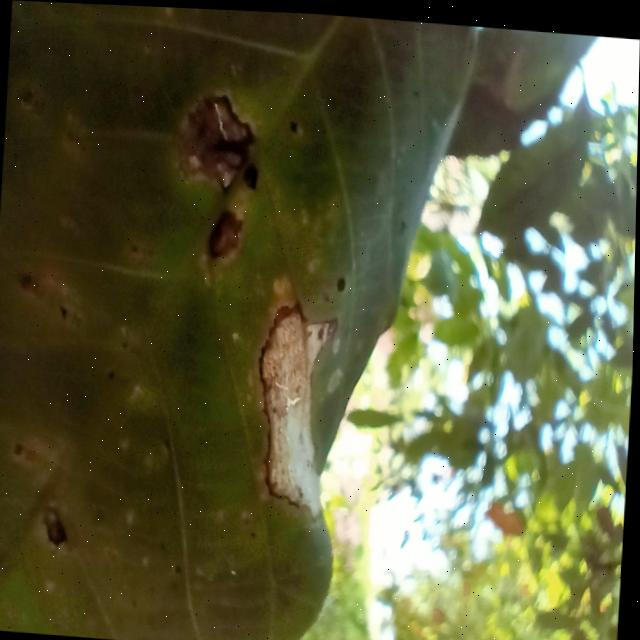Colletotrichum: (334, 270, 349, 291), (286, 116, 302, 134)
Leaf-Blight: (254, 307, 335, 513)
